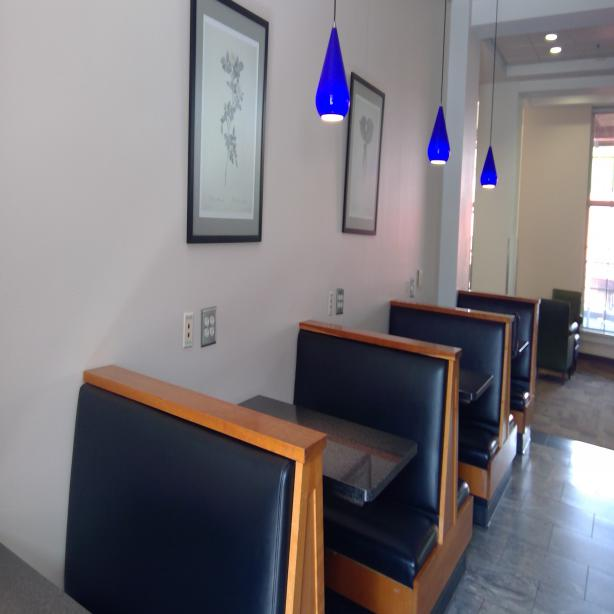typeb: (209, 314, 215, 327), (204, 316, 210, 328), (204, 328, 210, 339), (210, 328, 215, 338)
